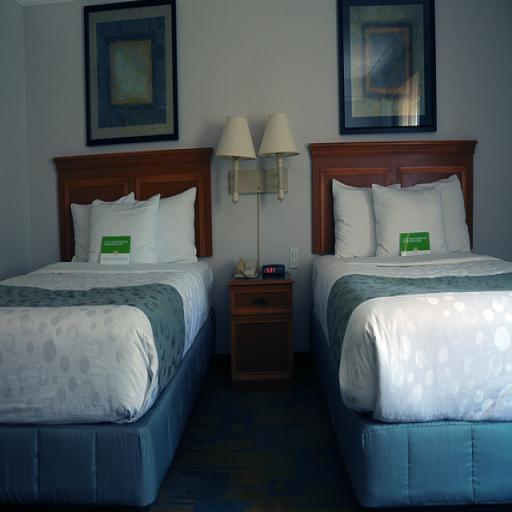bed: (294, 124, 512, 510), (3, 132, 224, 500)
